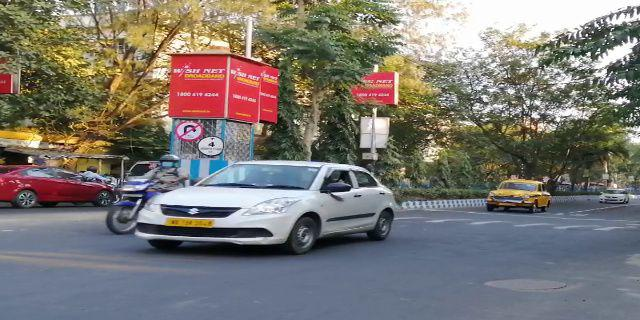Car: (136, 159, 395, 254), (2, 161, 113, 210), (481, 176, 554, 215)
Motorbike: (104, 152, 177, 235)
